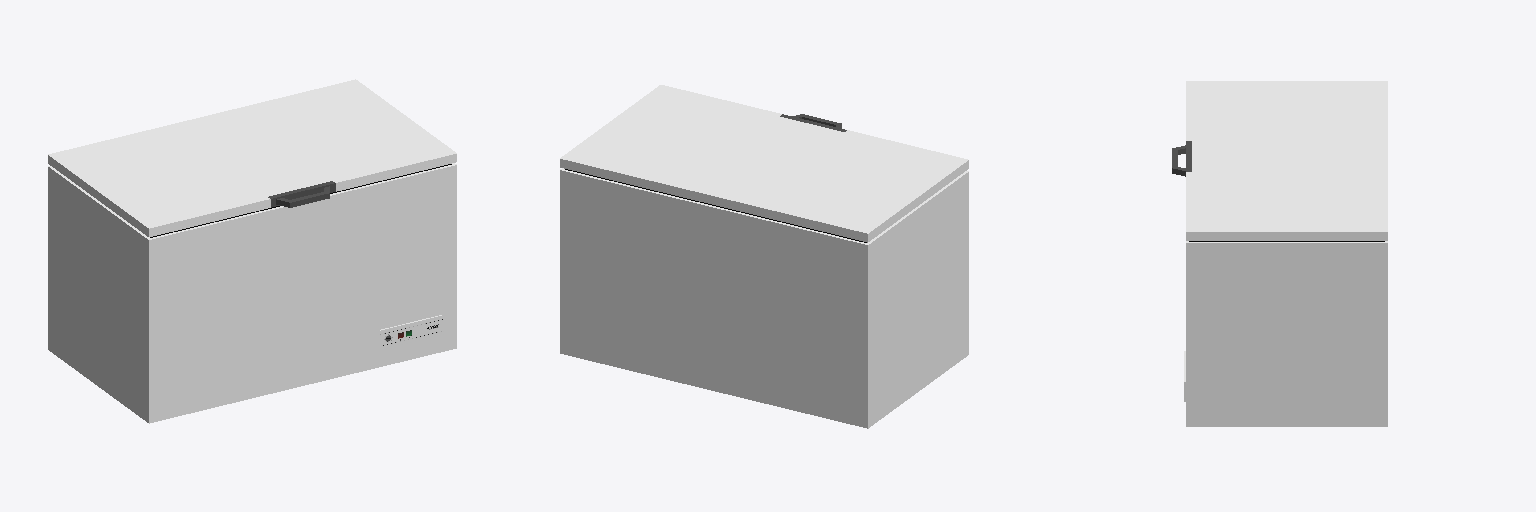
The picture shows the model from 3 angles: view 1: azimuth 30°, elevation 25°; view 2: azimuth 150°, elevation 25°; view 3: azimuth 270°, elevation 25°; orthographic projection.
Visible parts, largest first — view 1: Cube_Cube.001, Cube.003; view 2: Cube_Cube.001; view 3: Cube_Cube.001.
Boxes of the visible parts, box(x1,y1,x2,y2) form: Cube_Cube.001: box(48, 79, 456, 423); Cube.003: box(380, 315, 443, 349); Cube_Cube.001: box(560, 85, 968, 428); Cube_Cube.001: box(1172, 81, 1387, 426).
Size of the model in its own units: 100 by 61.59 by 60.78.
Materials: 4 (1 with a texture image).